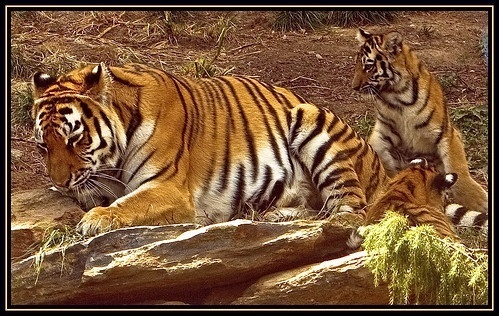tigre: (29, 61, 381, 236), (345, 24, 467, 177), (360, 154, 470, 282)
